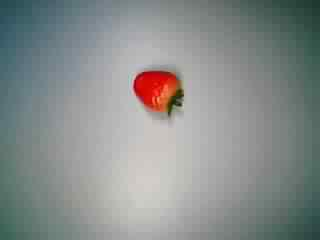strawberry: (130, 64, 192, 123)
